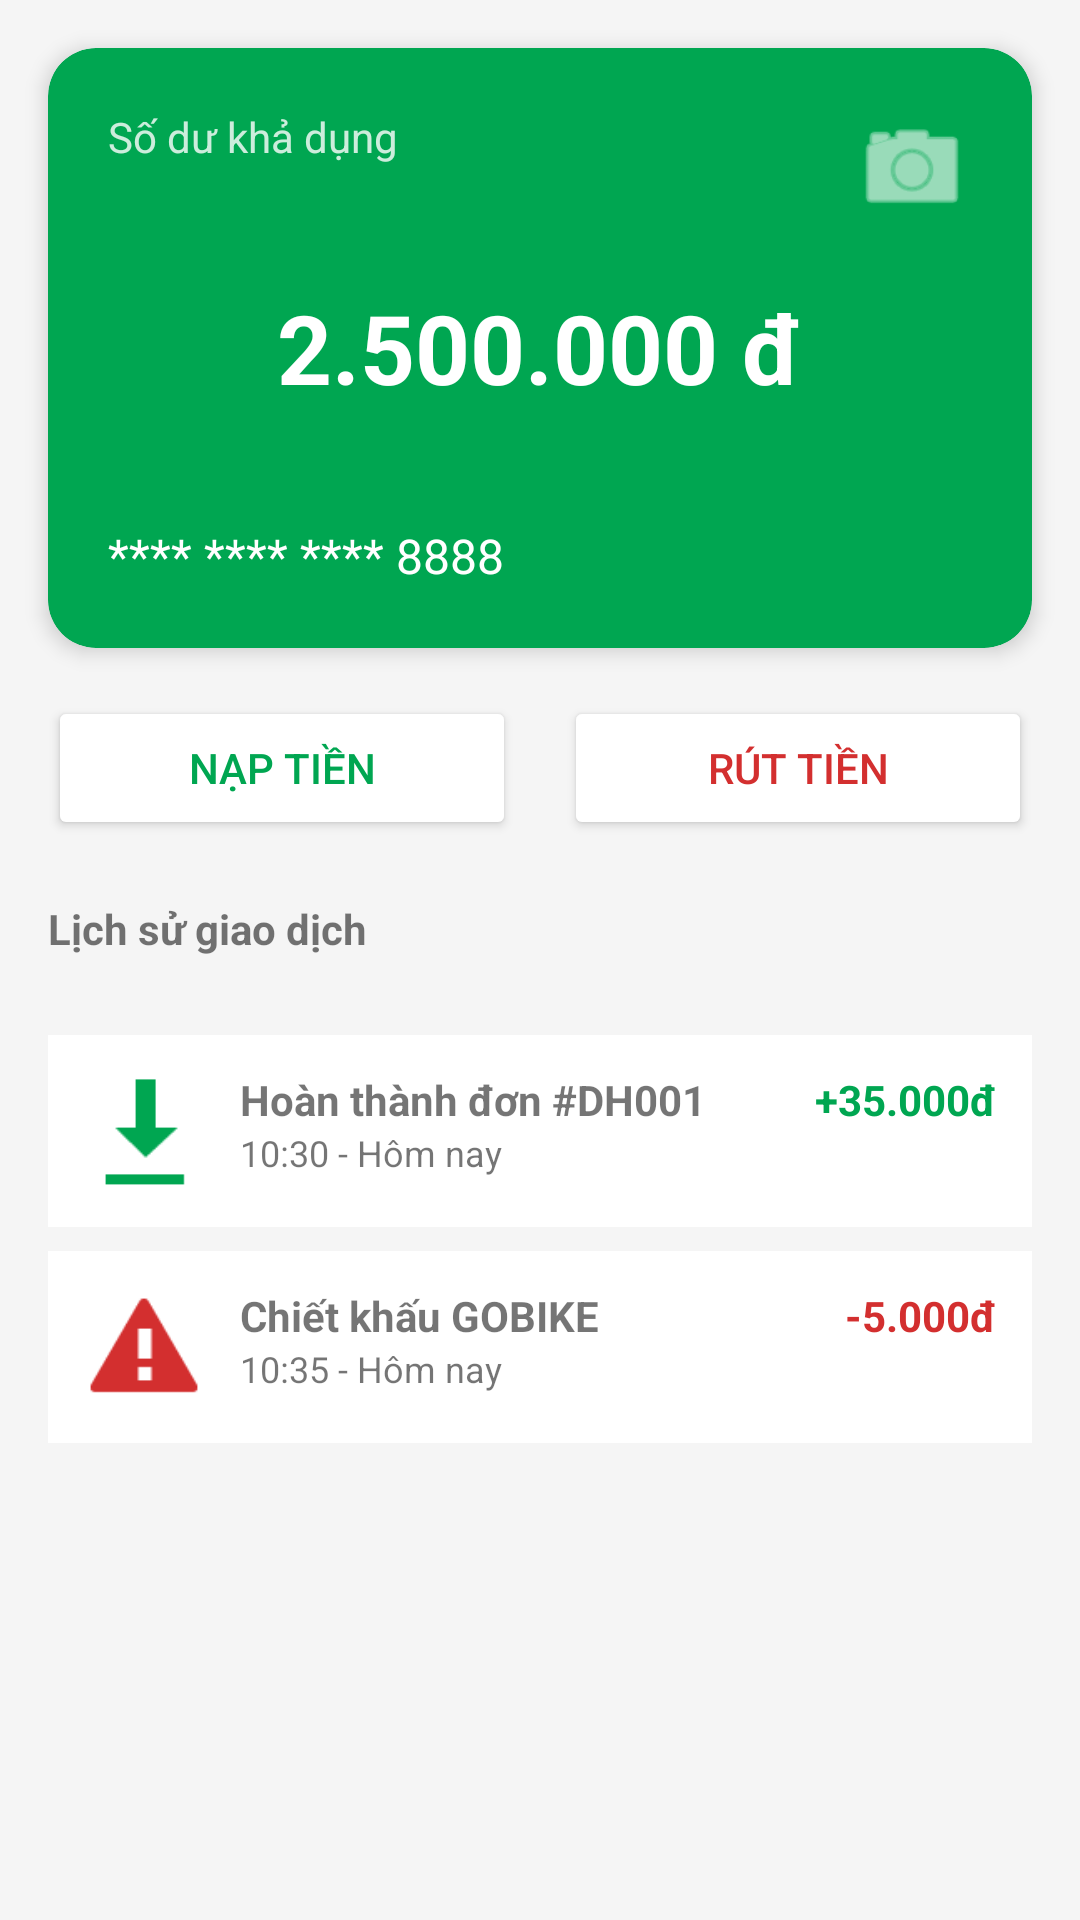

Icon bounding boxes for this 1080px x 1920px phone screenshot, format (x1, y1, x2, y2):
camera: (866, 129, 958, 203)
download done: (105, 1079, 185, 1185)
error: (90, 1298, 198, 1393)
